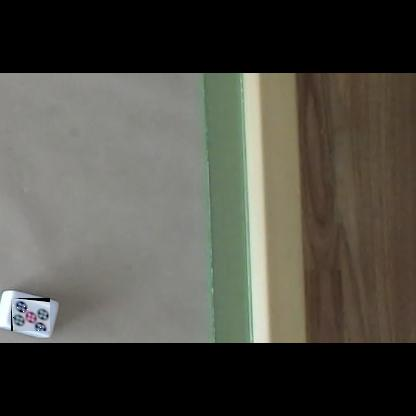5p: (11, 298, 50, 331)
